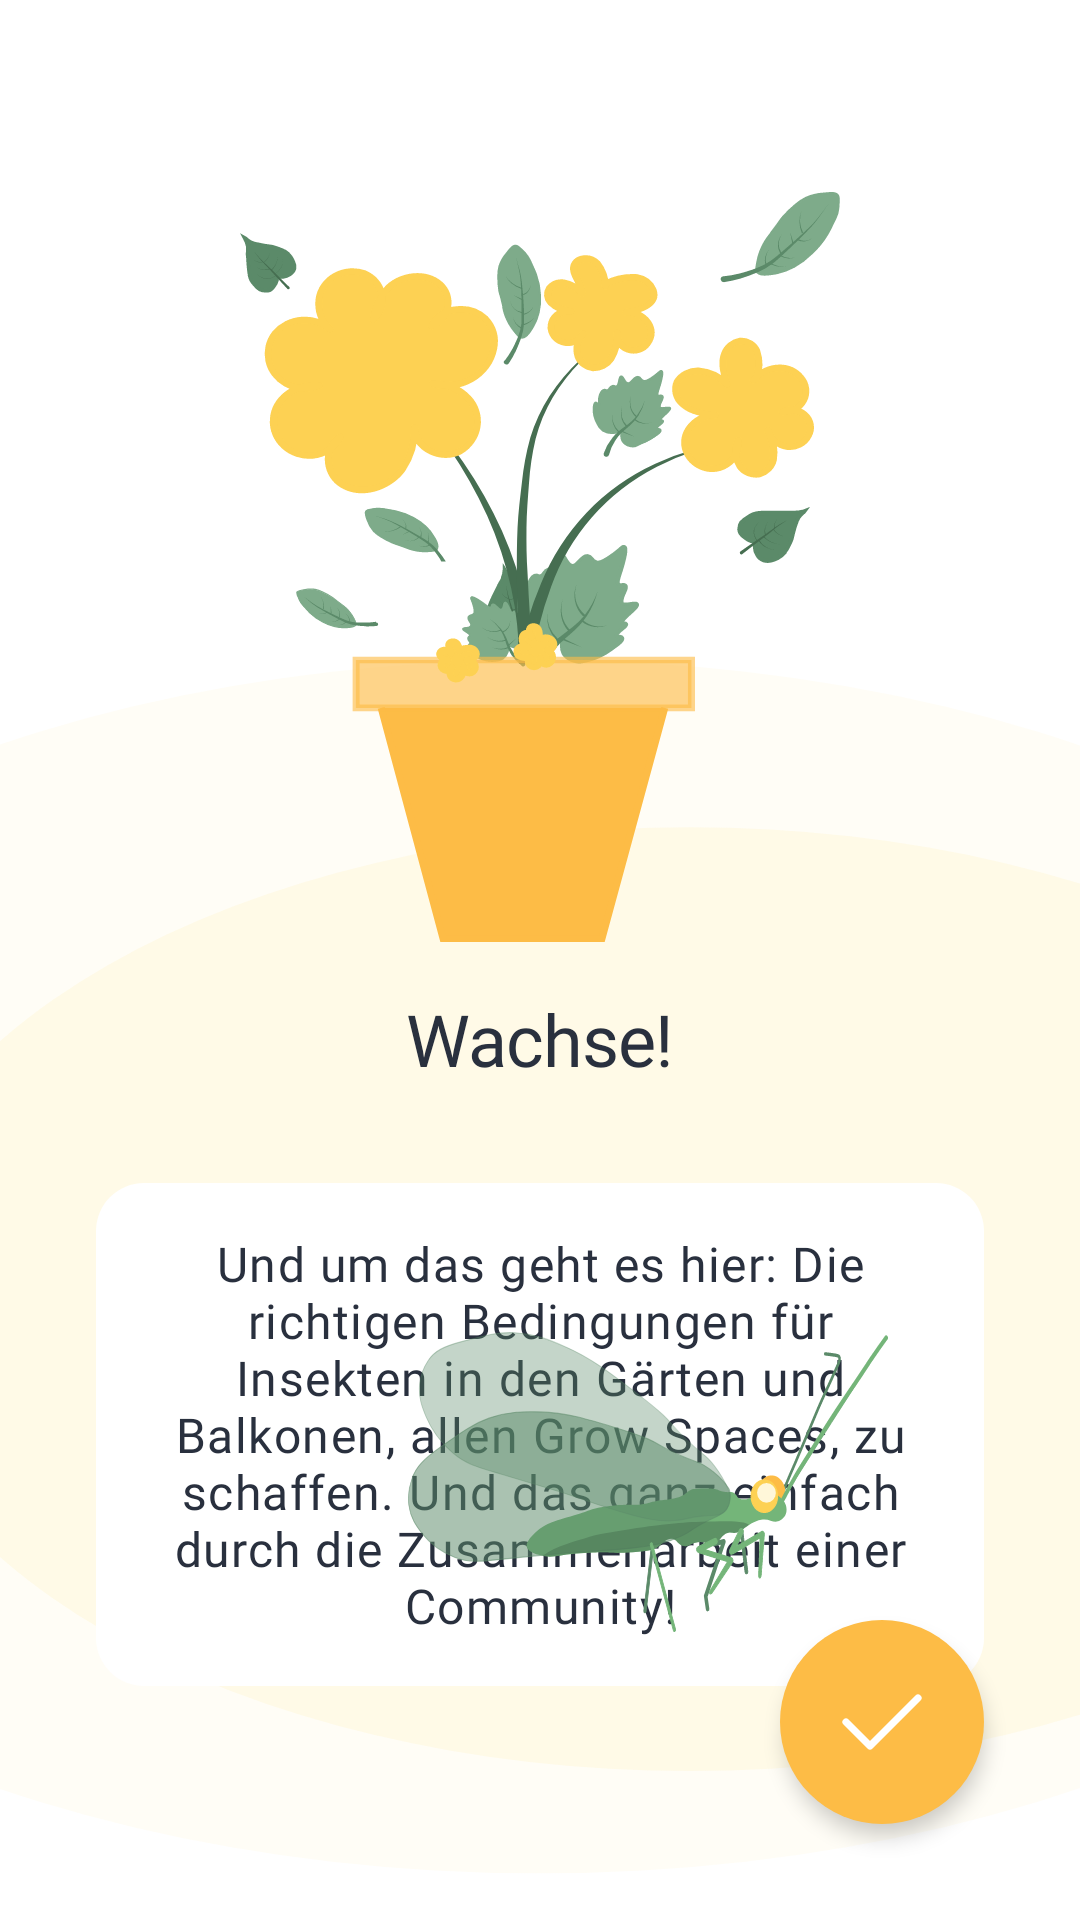

Named icons in this screenshot (1080 x 1920) and their bounding boxes, bbox=[x1, y1, x2, y2]:
mark: bbox=[780, 1620, 984, 1824]
